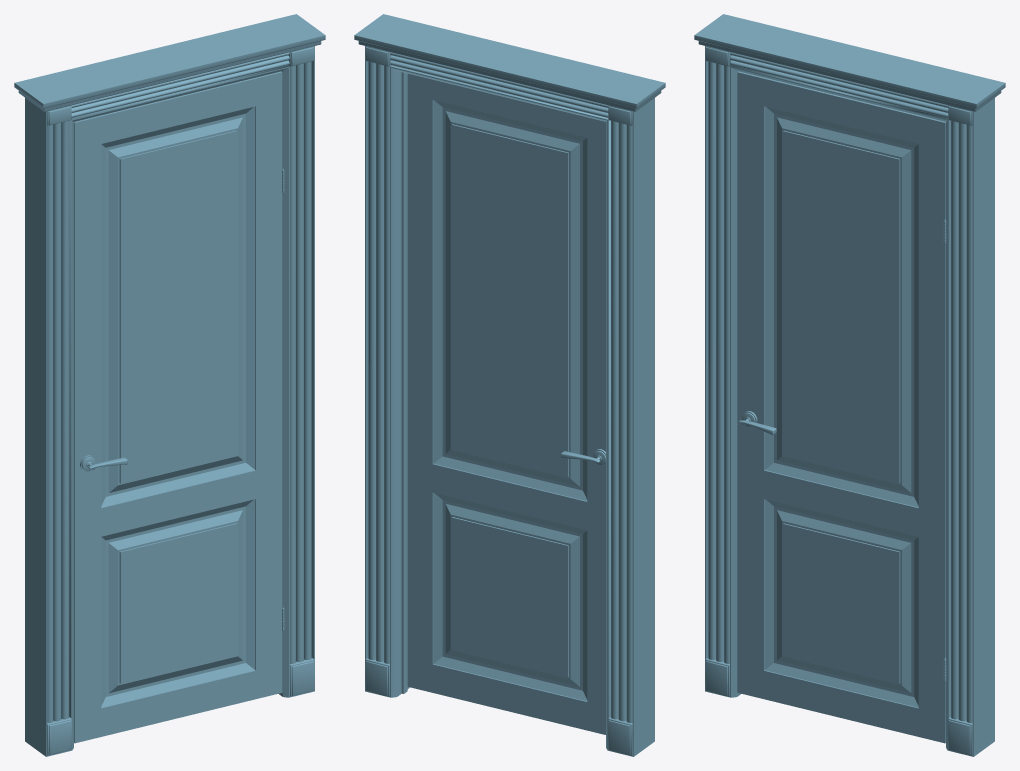
File: principal_office_interior_door_frame.fbx
3 views of the same model, side by side, from view 1: azimuth 30°, elevation 25°; view 2: azimuth 150°, elevation 25°; view 3: azimuth 330°, elevation 25° (orthographic).
Parts seen in each view (by area): view 1: principal_office_interior_door, principal_office_interior_door_frame; view 2: principal_office_interior_door, principal_office_interior_door_frame; view 3: principal_office_interior_door, principal_office_interior_door_frame.
Boxes of the visible parts, box(x1,y1,x2,y2) form: principal_office_interior_door: box(74, 71, 284, 743); principal_office_interior_door_frame: box(14, 14, 325, 756); principal_office_interior_door: box(407, 73, 605, 734); principal_office_interior_door_frame: box(354, 14, 665, 756); principal_office_interior_door: box(737, 71, 946, 743); principal_office_interior_door_frame: box(694, 14, 1005, 756).
Size of the model in its own units: 93.86 by 209 by 18.44.
